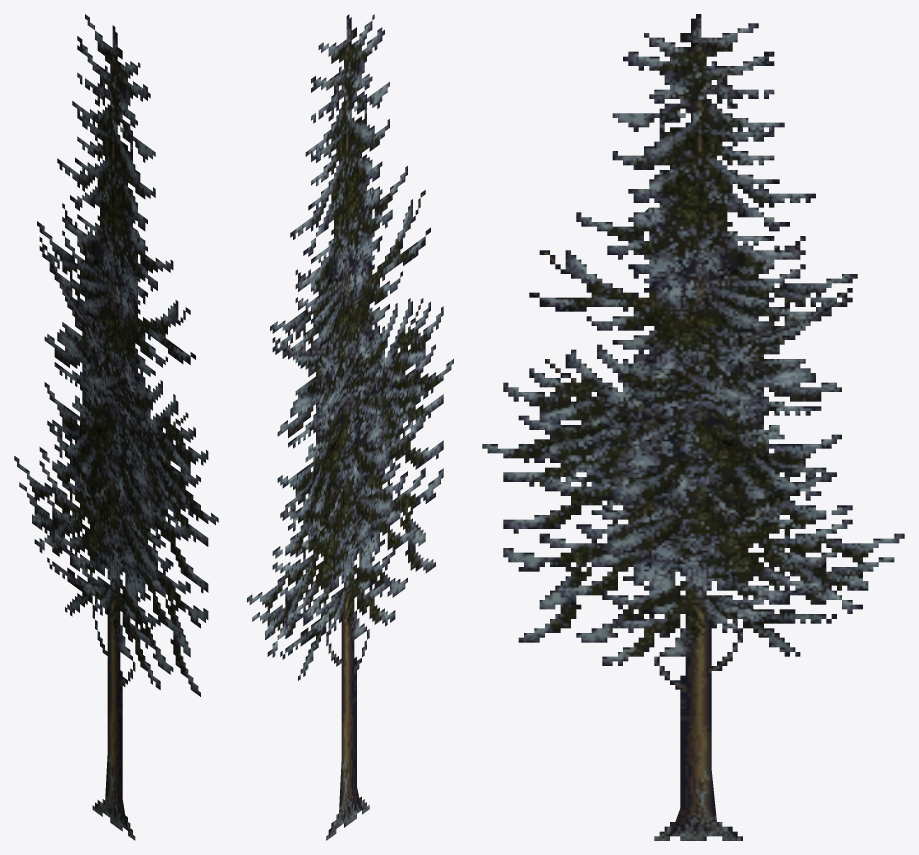
Rendered from ObjMD_Tree_Forest_A_Snow.FBX.
3 renders of one model, left to right at view 1: azimuth 30°, elevation 25°; view 2: azimuth 150°, elevation 25°; view 3: azimuth 270°, elevation 25°, orthographic. The views are drawn at different scales.
Visible parts, largest first — view 1: ObjMD_Tree_Forest_A_Snow; view 2: ObjMD_Tree_Forest_A_Snow; view 3: ObjMD_Tree_Forest_A_Snow.
Part boxes in pixels (x1,y1,x2,y2): ObjMD_Tree_Forest_A_Snow: [14, 14, 218, 840]; ObjMD_Tree_Forest_A_Snow: [247, 14, 453, 840]; ObjMD_Tree_Forest_A_Snow: [482, 14, 904, 840].
Size of the model in its own units: 0.000107 by 1490 by 690.
